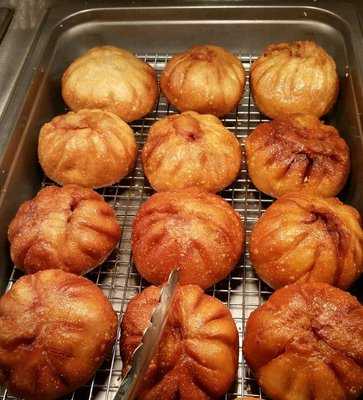salad: (0, 268, 118, 400), (117, 278, 239, 400), (243, 282, 363, 400), (248, 190, 363, 292), (130, 189, 246, 289), (7, 184, 122, 276), (244, 113, 351, 199), (142, 111, 243, 194), (37, 108, 138, 189), (60, 45, 159, 123), (249, 41, 340, 120), (159, 45, 246, 117)
